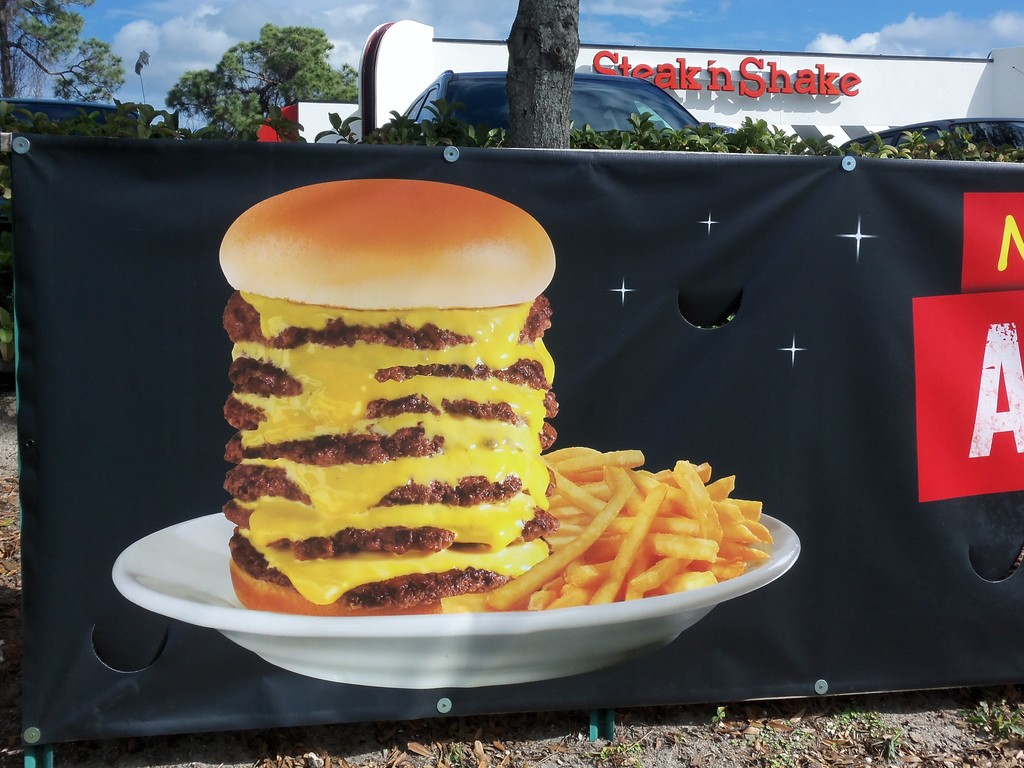French fries: (490, 424, 771, 608)
